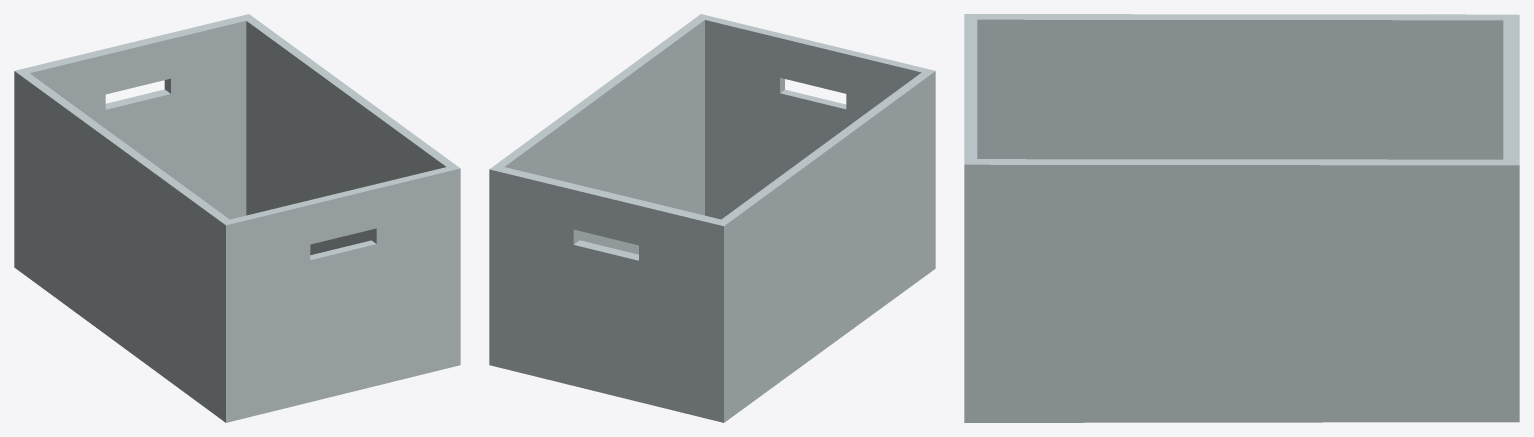
File: warehouse_034.glb
The picture shows the model from 3 angles, left to right: view 1: azimuth 30°, elevation 25°; view 2: azimuth 150°, elevation 25°; view 3: azimuth 270°, elevation 25°; orthographic projection. The views are drawn at different scales.
Visible parts, largest first — view 1: warehouse_034; view 2: warehouse_034; view 3: warehouse_034.
Boxes of the visible parts, x1,y1,x2,y2 form: warehouse_034: (14, 14, 460, 422); warehouse_034: (489, 14, 935, 422); warehouse_034: (964, 14, 1519, 422).
Bounding box in the file's own units: 0.418 × 0.3363 × 0.6528.
1 material, 1 textured.
